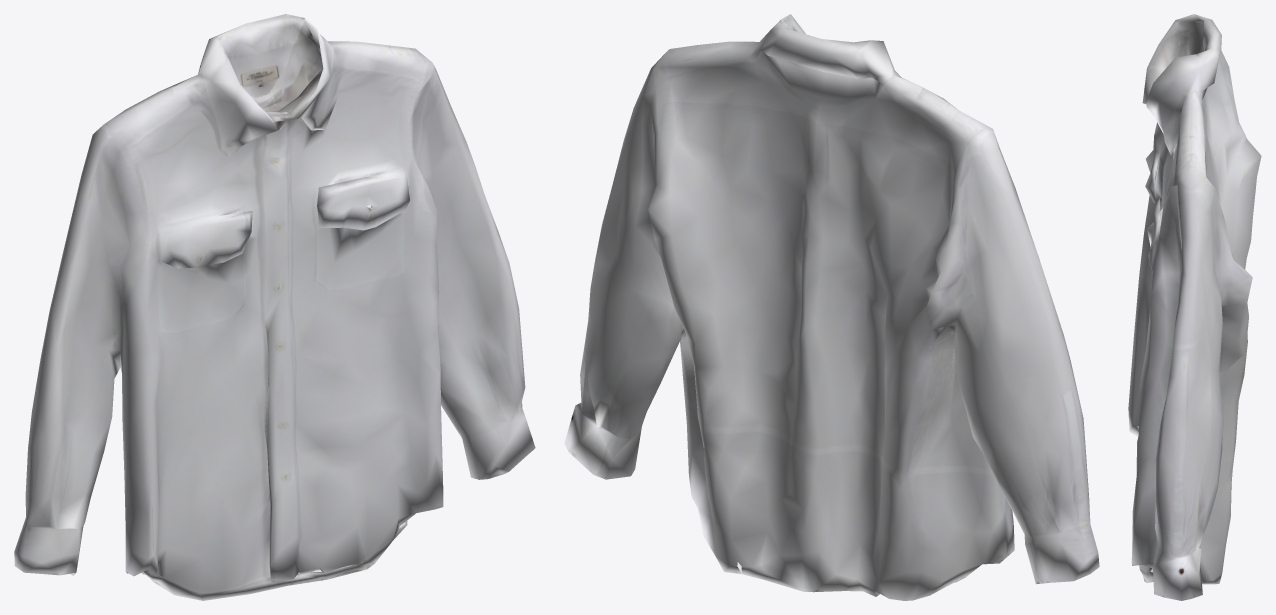
File: WhiteShirtFlat.fbx
3 renders of one model, left to right at view 1: azimuth 30°, elevation 25°; view 2: azimuth 150°, elevation 25°; view 3: azimuth 270°, elevation 25°, orthographic. The views are drawn at different scales.
Visible parts, largest first — view 1: Mesh1; view 2: Mesh1; view 3: Mesh1.
Boxes of the visible parts, <box> form: Mesh1: <box>14,14,535,600</box>; Mesh1: <box>564,14,1099,600</box>; Mesh1: <box>1128,14,1261,600</box>.
Bounding box in the file's own units: 199 × 201 × 47.29.
Materials: 1 (1 with a texture image).
